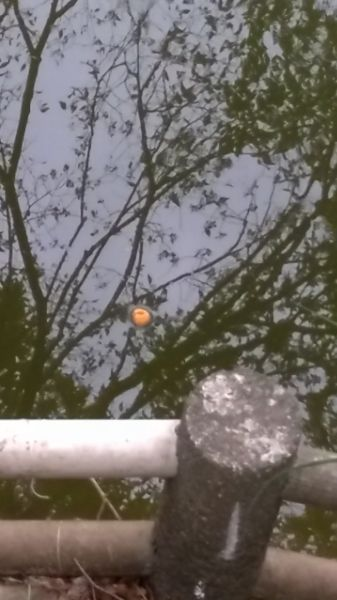eggs: (129, 305, 155, 327)
